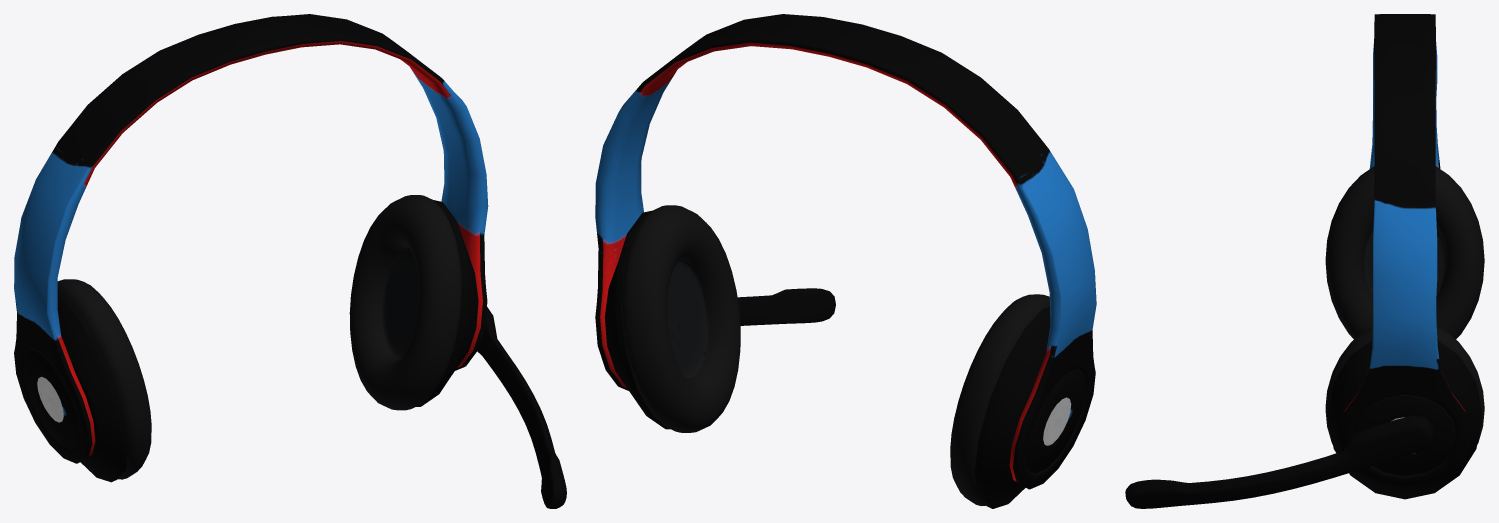
File: headset.glb
3 renders of one model, left to right at view 1: azimuth 30°, elevation 25°; view 2: azimuth 150°, elevation 25°; view 3: azimuth 270°, elevation 25°, orthographic. The views are drawn at different scales.
Visible parts, largest first — view 1: earphoneslow; view 2: earphoneslow; view 3: earphoneslow.
Part boxes in pixels (left/top/right/bottom): earphoneslow: left=14, top=14, right=566, bottom=508; earphoneslow: left=595, top=14, right=1096, bottom=508; earphoneslow: left=1125, top=14, right=1484, bottom=508.
Bounding box in the file's own units: 2 × 1.75 × 1.46.
1 material, 1 textured.
